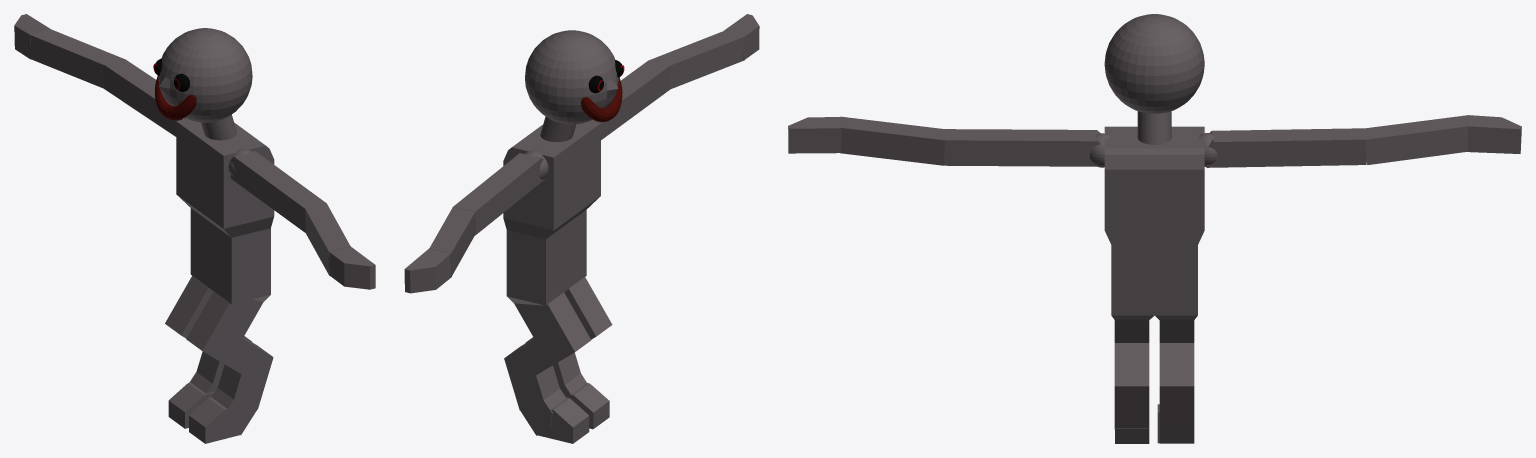
File: monstre_poussin.fbx
3 views of the same model, side by side, from view 1: azimuth 30°, elevation 25°; view 2: azimuth 150°, elevation 25°; view 3: azimuth 270°, elevation 25° (orthographic). The views are drawn at different scales.
Visible parts, largest first — view 1: Sphere; view 2: Sphere; view 3: Sphere.
Boxes of the visible parts, left/top/right/bottom form: Sphere: left=14, top=14, right=375, bottom=443; Sphere: left=404, top=14, right=759, bottom=443; Sphere: left=788, top=14, right=1521, bottom=443.
Size of the model in its own units: 234 by 917 by 1463.
